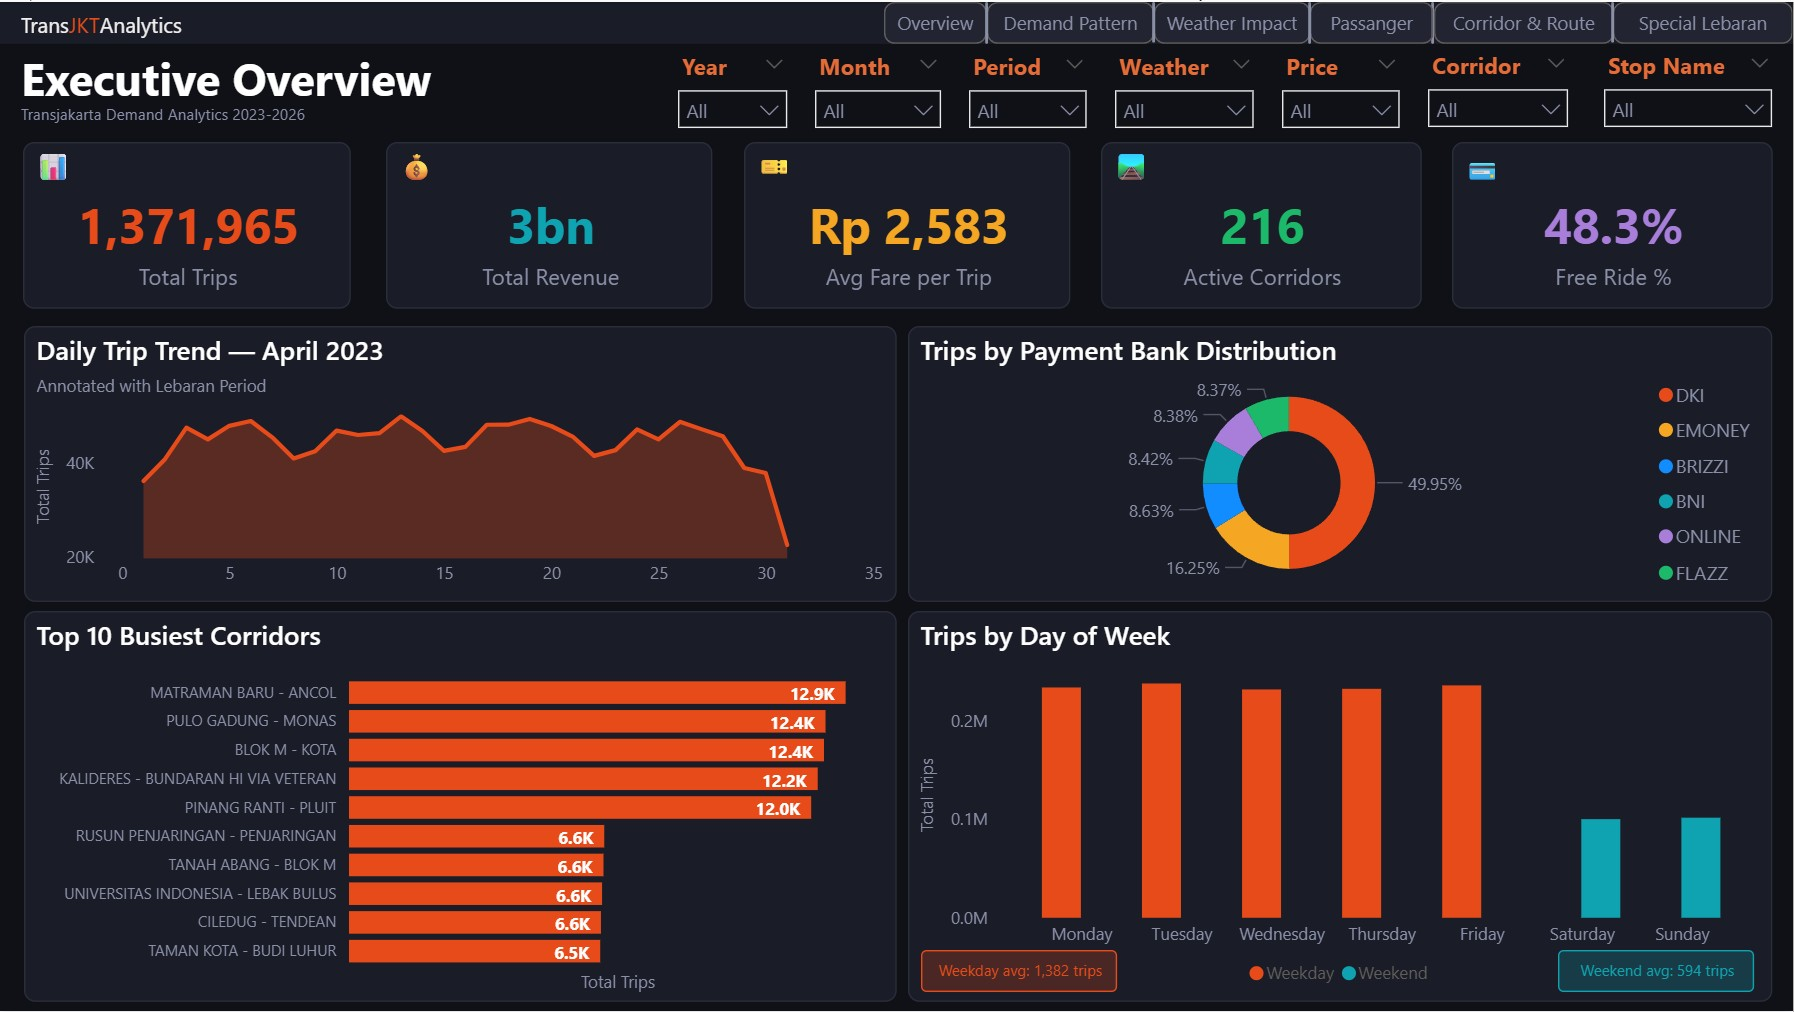

The page's visual inventory and layout, read from the dashboard file:
{"tool":"powerbi","page":{"name":"EXECUTIVE OVERVIEW","canvas":[1280,720],"ordinal":0},"visuals":[{"type":"shape","box":[0,0,1280,29.8],"z":0},{"type":"actionButton","box":[630.9,0,73.3,29.8],"z":0,"group":"g1"},{"type":"shape","box":[1002.5,0,40.9,29.8],"z":0,"group":"g3"},{"type":"htmlContent443BE3AD55E043BF878BED274D3A6855","fields":{"content":["FACT_TRANSJAKARTA.Navbar Brand"]},"box":[9.8,0,135.8,35.6],"z":1000},{"type":"group","id":"g1","title":"Group 2","box":[630.9,0,649.1,29.8],"z":1000,"group":"g3"},{"type":"actionButton","box":[704.2,0,119.3,29.8],"z":1000,"group":"g1"},{"type":"actionButton","box":[823.5,0,111.5,29.8],"z":2000,"group":"g1"},{"type":"card","title":"📊","fields":{"Values":["FACT_TRANSJAKARTA.Total Trips"]},"box":[16.6,100.1,234.1,119.2],"z":2000},{"type":"actionButton","box":[935,0,88.2,29.8],"z":3000,"group":"g1"},{"type":"card","title":"💰","fields":{"Values":["FACT_TRANSJAKARTA.Total Revenue"]},"box":[275.8,100.1,233.4,119.2],"z":3000},{"type":"actionButton","box":[1023.2,0,128.4,29.8],"z":4000,"group":"g1"},{"type":"card","title":"🎫","fields":{"Values":["FACT_TRANSJAKARTA.Avg Fare per Trip"]},"box":[531.4,100.1,233.4,119.2],"z":4000},{"type":"actionButton","box":[1151.6,0,128.4,29.8],"z":5000,"group":"g1"},{"type":"card","title":"🛤️","fields":{"Values":["FACT_TRANSJAKARTA.Total Unique Corridors"]},"box":[785.7,100.1,228.5,119.2],"z":5000},{"type":"shape","box":[684.1,0,40.9,29.8],"z":6000,"group":"g1"},{"type":"card","title":"💳","fields":{"Values":["FACT_TRANSJAKARTA.Free Ride %"]},"box":[1036.4,100.1,228.5,119.2],"z":6000},{"type":"shape","box":[802.7,0,40.9,29.2],"z":7000,"group":"g1"},{"type":"areaChart","title":"Daily Trip Trend — April 2023","fields":{"Category":["DIM_CALENDAR.DayID"],"Y":["FACT_TRANSJAKARTA.Total Trips"]},"box":[16.9,231.2,623.1,196.9],"z":7000},{"type":"shape","box":[914.3,0,40.9,29.8],"z":8000,"group":"g1"},{"type":"donutChart","title":"Trips by Payment Bank Distribution","fields":{"Y":["FACT_TRANSJAKARTA.Total Trips"],"Category":["FACT_TRANSJAKARTA.payCardBank"]},"box":[648.1,231.2,616.9,196.9],"z":8000},{"type":"shape","box":[1130.8,0,40.9,29.2],"z":9000,"group":"g1"},{"type":"clusteredBarChart","title":"Top 10 Busiest Corridors","fields":{"Category":["FACT_TRANSJAKARTA.corridorName"],"Y":["FACT_TRANSJAKARTA.Total Trips"]},"box":[16.9,435,623.1,279.4],"z":9000},{"type":"clusteredColumnChart","title":"Trips by Day of Week","fields":{"Category":["DIM_CALENDAR.DayName"],"Y":["FACT_TRANSJAKARTA.Total Trips"],"Series":["FACT_TRANSJAKARTA.Weekday_Weekend"]},"box":[648,435,617,279],"z":10000},{"type":"card","fields":{"Values":["FACT_TRANSJAKARTA.Weekday Avg Text"]},"box":[657.5,676.9,140,30],"z":11000},{"type":"card","fields":{"Values":["FACT_TRANSJAKARTA.Weekend Avg Text"]},"box":[1112.5,676.9,140,30],"z":12000},{"type":"textbox","box":[9.8,27,350.2,57.1],"z":13000},{"type":"textbox","box":[9.8,65.1,350.2,28.9],"z":14000},{"type":"group","id":"g2","title":"Group 1","box":[474,29.2,801.5,70.7],"z":15000},{"type":"slicer","fields":{"Values":["DIM_CALENDAR.Year"]},"box":[474,29.8,97.7,70.6],"z":15000,"group":"g2"},{"type":"group","id":"g3","title":"Group 3","box":[630.9,0,649.1,29.8],"z":16000},{"type":"slicer","fields":{"Values":["DIM_CALENDAR.Weekday_Weekend"]},"box":[681.6,29.8,104.4,70.6],"z":16000,"group":"g2"},{"type":"slicer","fields":{"Values":["DIM_ROUTES_SLICER.Concated Route"]},"box":[1009.1,29.2,120.4,70.6],"z":17000,"group":"g2"},{"type":"slicer","fields":{"Values":["DIM_CALENDAR.MonthName"]},"box":[571.7,29.8,110,70.6],"z":18000,"group":"g2"},{"type":"slicer","fields":{"Values":["DIM_FARES.Price"]},"box":[905.3,29.8,103.8,70.6],"z":19000,"group":"g2"},{"type":"slicer","fields":{"Values":["DIM_STOPS.StopName"]},"box":[1135,29.2,140.1,70.6],"z":20000,"group":"g2"},{"type":"slicer","fields":{"Values":["DIM_WEATHER.isRain"]},"box":[786.1,29.8,119.2,70.6],"z":21000,"group":"g2"}]}

Visuals, with their boxes in screenshot pixels (x1, y1, x2, y2), scaled from the page's 1280x720 canvas onto the 1794x1012 screenshot:
shape: <box>0,0,1793,42</box>
actionButton: <box>884,0,987,42</box>
shape: <box>1405,0,1462,42</box>
htmlContent443BE3AD55E043BF878BED274D3A6855 - FACT_TRANSJAKARTA.Navbar Brand: <box>14,0,204,50</box>
"Group 2" group: <box>884,0,1793,42</box>
actionButton: <box>987,0,1154,42</box>
actionButton: <box>1154,0,1310,42</box>
"📊" card: <box>23,141,351,308</box>
actionButton: <box>1310,0,1434,42</box>
"💰" card: <box>387,141,714,308</box>
actionButton: <box>1434,0,1614,42</box>
"🎫" card: <box>745,141,1072,308</box>
actionButton: <box>1614,0,1793,42</box>
"🛤️" card: <box>1101,141,1421,308</box>
shape: <box>959,0,1016,42</box>
"💳" card: <box>1453,141,1773,308</box>
shape: <box>1125,0,1182,41</box>
"Daily Trip Trend — April 2023" areaChart: <box>24,325,897,602</box>
shape: <box>1281,0,1339,42</box>
"Trips by Payment Bank Distribution" donutChart: <box>908,325,1773,602</box>
shape: <box>1585,0,1642,41</box>
"Top 10 Busiest Corridors" clusteredBarChart: <box>24,611,897,1004</box>
"Trips by Day of Week" clusteredColumnChart: <box>908,611,1773,1004</box>
card - FACT_TRANSJAKARTA.Weekday Avg Text: <box>922,951,1118,994</box>
card - FACT_TRANSJAKARTA.Weekend Avg Text: <box>1559,951,1755,994</box>
textbox: <box>14,38,505,118</box>
textbox: <box>14,92,505,132</box>
"Group 1" group: <box>664,41,1788,140</box>
slicer - DIM_CALENDAR.Year: <box>664,42,801,141</box>
"Group 3" group: <box>884,0,1793,42</box>
slicer - DIM_CALENDAR.Weekday_Weekend: <box>955,42,1102,141</box>
slicer - DIM_ROUTES_SLICER.Concated Route: <box>1414,41,1583,140</box>
slicer - DIM_CALENDAR.MonthName: <box>801,42,955,141</box>
slicer - DIM_FARES.Price: <box>1269,42,1414,141</box>
slicer - DIM_STOPS.StopName: <box>1591,41,1787,140</box>
slicer - DIM_WEATHER.isRain: <box>1102,42,1269,141</box>
